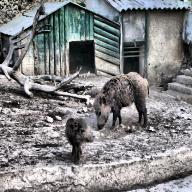boar: (92, 70, 150, 134), (64, 118, 94, 165)
